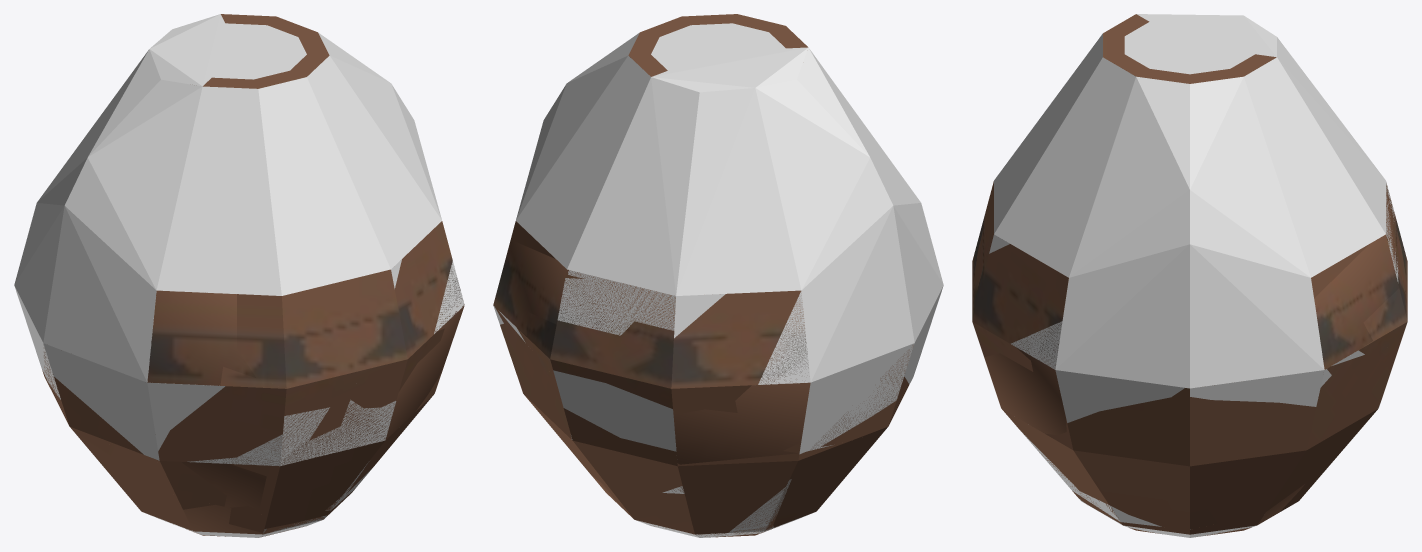
File: urn.low.webp.glb
3 renders of one model, left to right at view 1: azimuth 30°, elevation 25°; view 2: azimuth 150°, elevation 25°; view 3: azimuth 270°, elevation 25°, orthographic.
Visible parts, largest first — view 1: COL, FRAC_6_l1, LOD1_body, FRAC_2_l1, FRAC_0_l1, FRAC_3_l1, FRAC_4_l1, FRAC_1_l1; view 2: COL, LOD1_body, FRAC_1_l1, FRAC_0_l1, FRAC_3_l1, FRAC_2_l1, FRAC_4_l1, FRAC_6_l1; view 3: COL, FRAC_0_l1, LOD1_body, FRAC_6_l1, FRAC_4_l1, FRAC_1_l1, FRAC_3_l1.
Part boxes in pixels (x1=…): COL: x1=14, y1=14, x2=464, y2=537; FRAC_6_l1: x1=237, y1=221, x2=452, y2=388; LOD1_body: x1=44, y1=264, x2=464, y2=534; FRAC_2_l1: x1=48, y1=366, x2=356, y2=463; FRAC_0_l1: x1=42, y1=361, x2=445, y2=515; FRAC_3_l1: x1=92, y1=453, x2=354, y2=537; FRAC_4_l1: x1=203, y1=14, x2=329, y2=88; FRAC_1_l1: x1=350, y1=364, x2=416, y2=407; COL: x1=493, y1=23, x2=943, y2=537; LOD1_body: x1=493, y1=240, x2=913, y2=536; FRAC_1_l1: x1=516, y1=293, x2=737, y2=414; FRAC_0_l1: x1=495, y1=307, x2=884, y2=493; FRAC_3_l1: x1=604, y1=453, x2=865, y2=537; FRAC_2_l1: x1=728, y1=290, x2=909, y2=453; FRAC_4_l1: x1=628, y1=14, x2=807, y2=76; FRAC_6_l1: x1=511, y1=221, x2=568, y2=277; COL: x1=989, y1=14, x2=1398, y2=537; FRAC_0_l1: x1=1002, y1=342, x2=1400, y2=529; LOD1_body: x1=984, y1=185, x2=1399, y2=533; FRAC_6_l1: x1=972, y1=181, x2=1387, y2=371; FRAC_4_l1: x1=1103, y1=14, x2=1276, y2=83; FRAC_1_l1: x1=979, y1=212, x2=1407, y2=356; FRAC_3_l1: x1=1072, y1=467, x2=1327, y2=535.
Size of the model in its own units: 0.64 by 0.7 by 0.6087.
1 material, 1 textured.
